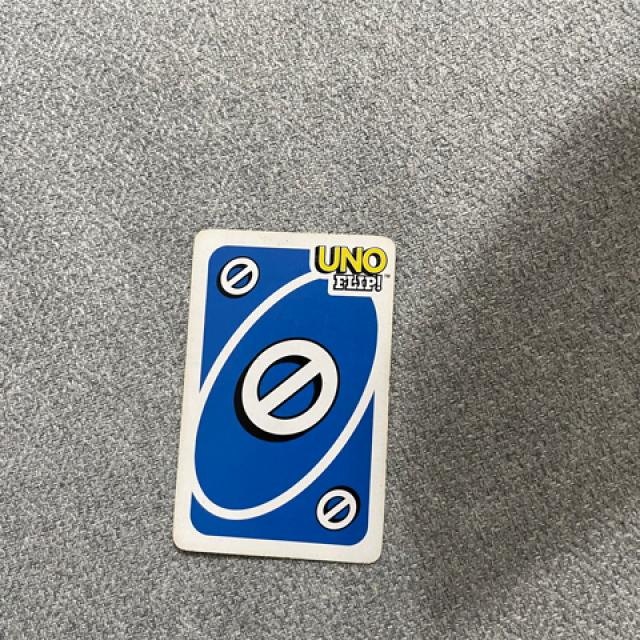lblueskip-20: (200, 241, 270, 322)
